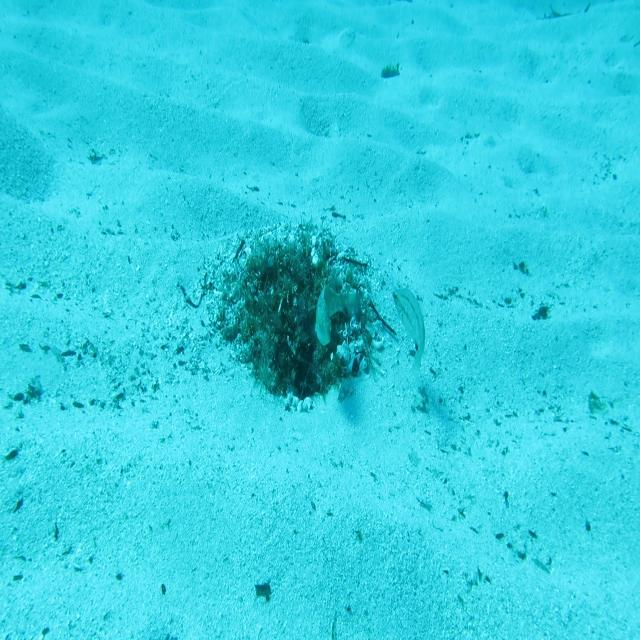LF: (309, 274, 361, 348)
core_nest: (273, 256, 321, 294)
female: (392, 287, 426, 382)
nest: (202, 212, 384, 418)
